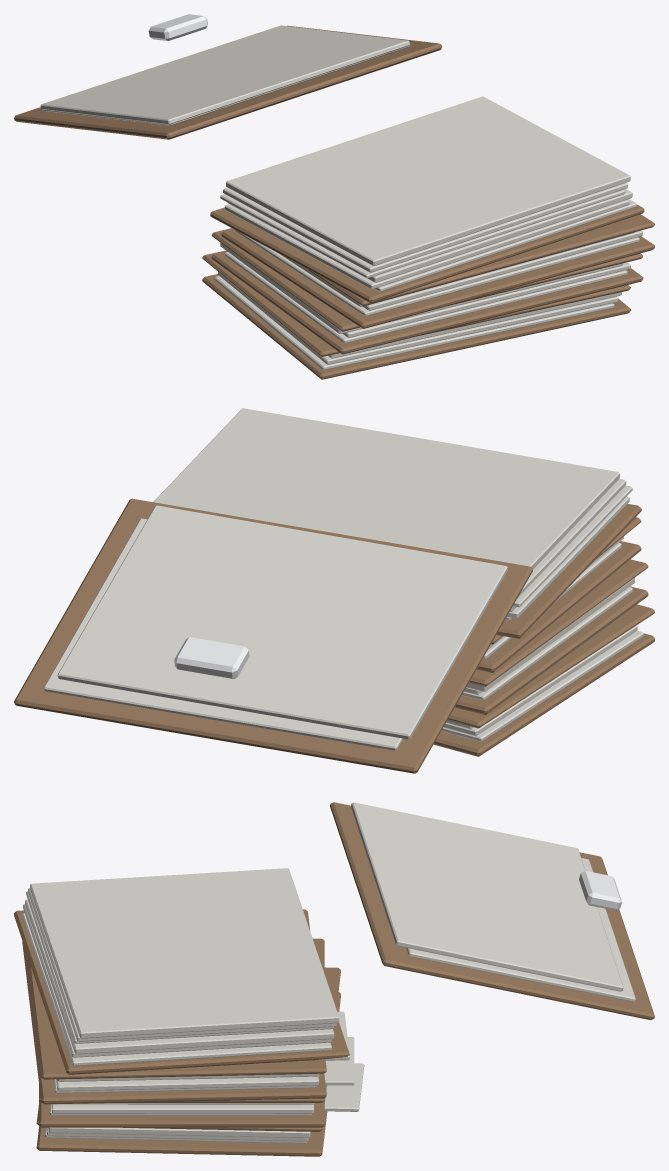
File: police-station-and-detective-office-case-file-stack-489c8d79__29970.glb
The picture shows the model from 3 angles, top to bottom: view 1: azimuth 30°, elevation 25°; view 2: azimuth 150°, elevation 25°; view 3: azimuth 270°, elevation 25°; orthographic projection. The views are drawn at different scales.
Visible parts, largest first — view 1: case-file-stack; view 2: case-file-stack; view 3: case-file-stack.
Boxes of the visible parts, x1,y1,x2,y2 form: case-file-stack: [14, 14, 654, 379]; case-file-stack: [14, 408, 654, 773]; case-file-stack: [14, 802, 654, 1156].
Size of the model in its own units: 0.4093 by 0.1674 by 0.5382.
